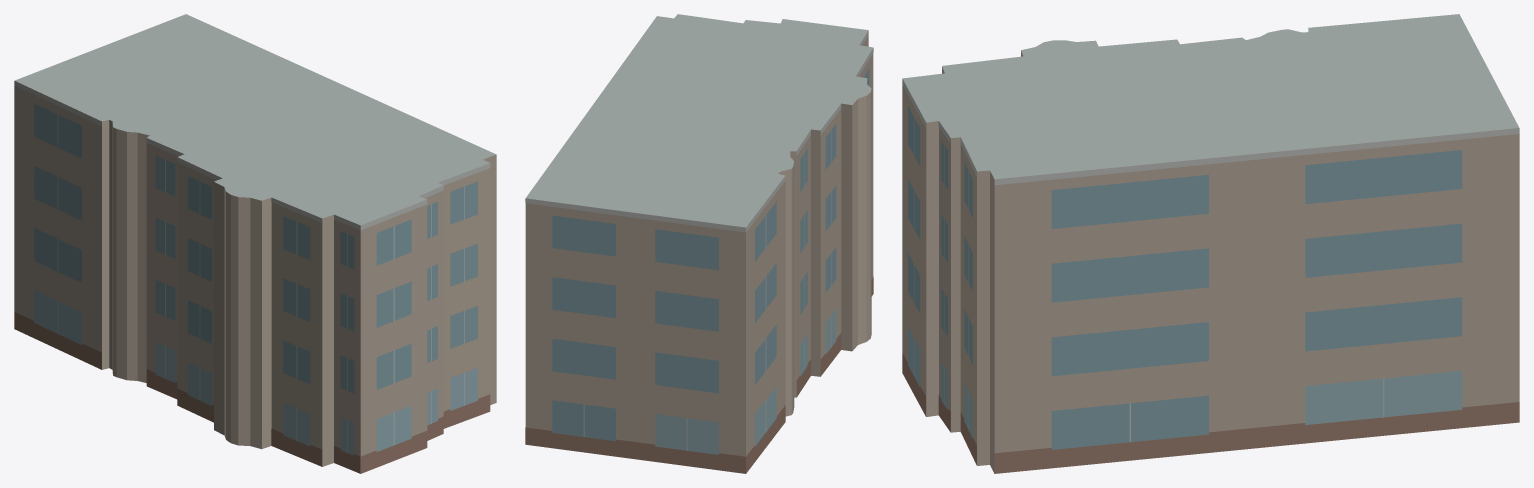
File: survey-upis-32830438.glb
The picture shows the model from 3 angles, left to right: view 1: azimuth 30°, elevation 25°; view 2: azimuth 150°, elevation 25°; view 3: azimuth 270°, elevation 25°; orthographic projection. The views are drawn at different scales.
Parts seen in each view (by area): view 1: survey-upis-32830438.tmp; view 2: survey-upis-32830438.tmp; view 3: survey-upis-32830438.tmp.
Part boxes in pixels (x1,y1,x2,y2): survey-upis-32830438.tmp: (14,14,496,473); survey-upis-32830438.tmp: (525,14,873,473); survey-upis-32830438.tmp: (902,14,1519,473).
Bounding box in the file's own units: 14.71 × 12.2 × 23.18.
